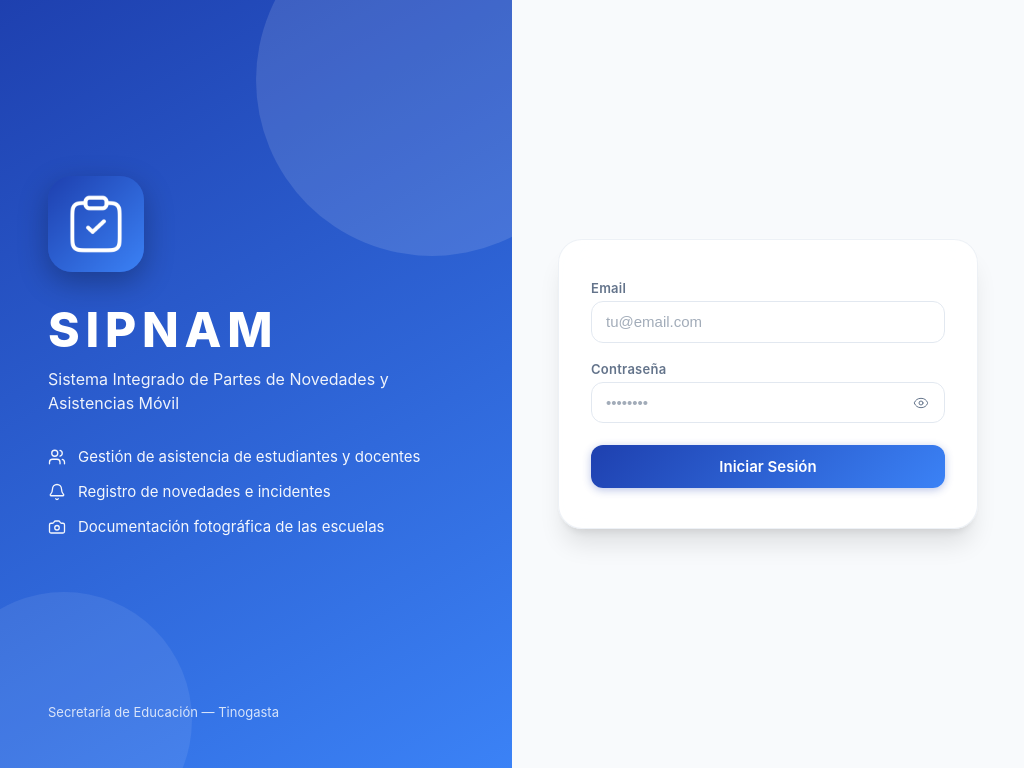
it: Login › muestra error cuando el login falla
Type "bad@test.com" into the field labelled "Email" at coordinates (768, 322), box [591,301,945,342]
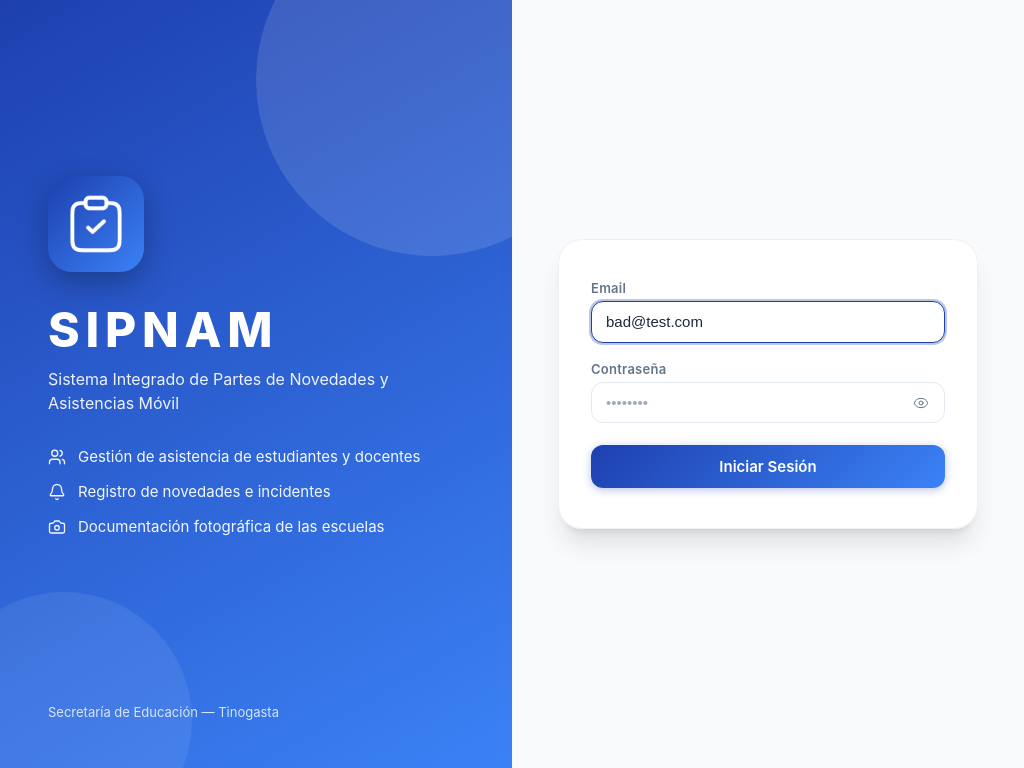
Type "wrong" into the password field labelled "Contraseña" at coordinates (768, 403), box [591,382,945,424]
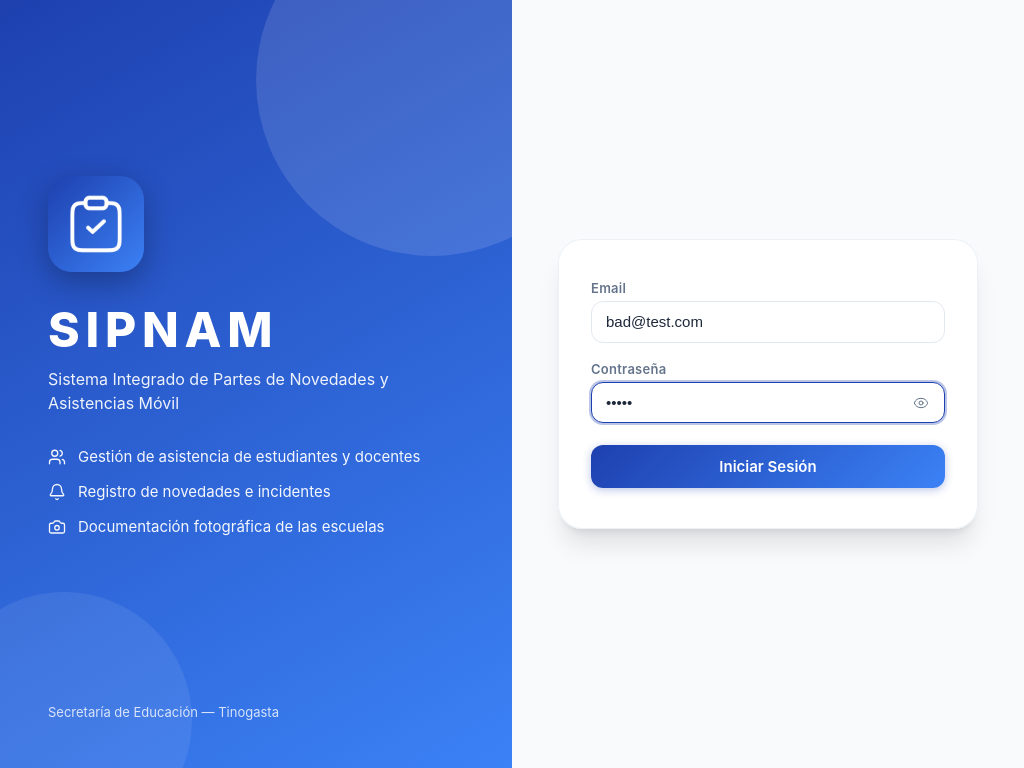
Click the button "Iniciar Sesión" at coordinates (768, 467), box [591,446,945,488]
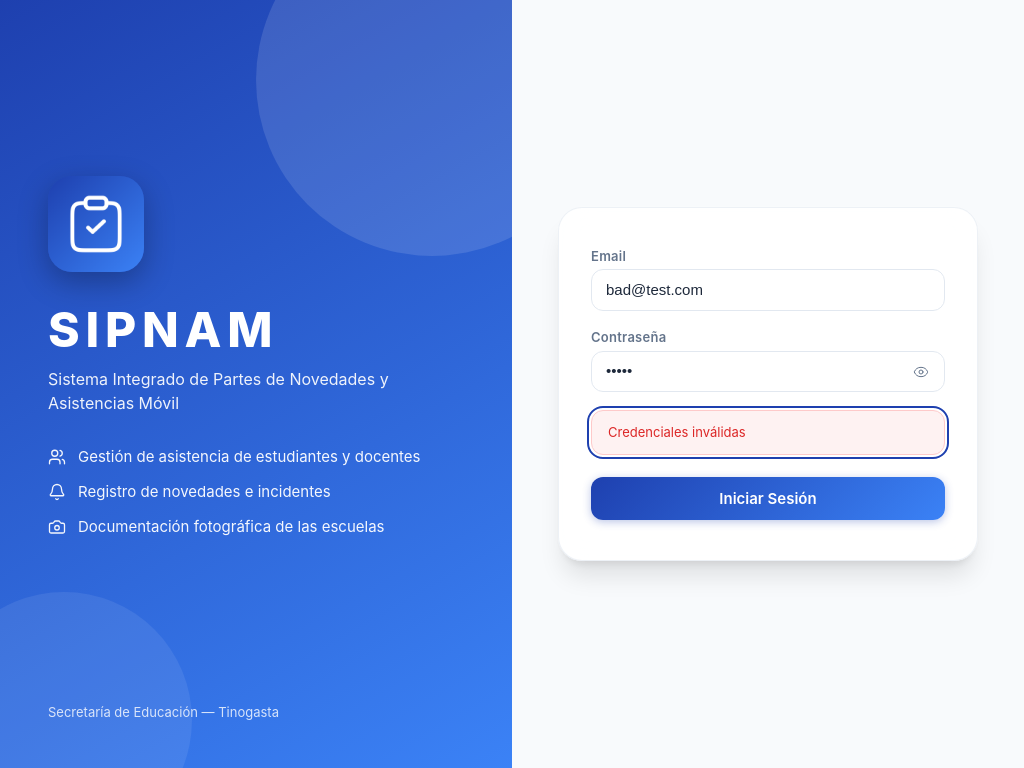
Result: the text "Credenciales inválidas" is shown at [591,410,945,455]
